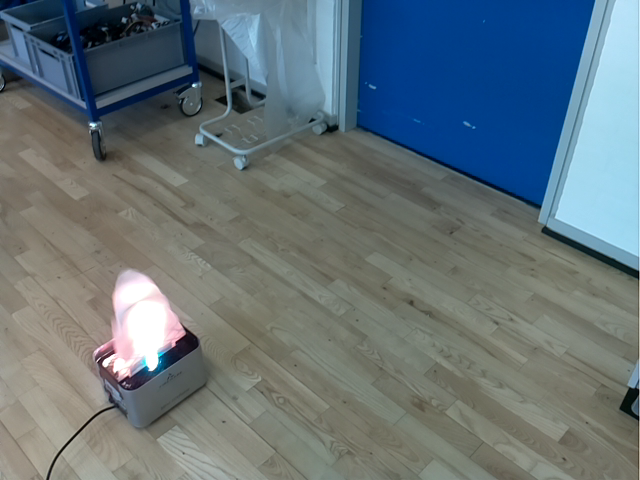fire: (110, 268, 185, 382)
